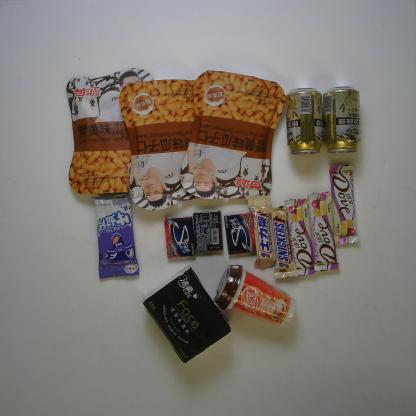Alcohol: (322, 86, 362, 154), (285, 88, 325, 154)
Candy: (91, 192, 140, 280)
Chocolate: (328, 162, 360, 244), (307, 190, 339, 272), (283, 198, 316, 276), (247, 195, 277, 270), (268, 206, 298, 279)
Dried Fruit: (179, 70, 287, 200), (118, 78, 215, 211), (66, 67, 156, 196)
Gum: (223, 211, 256, 256), (164, 216, 196, 260), (192, 210, 224, 252)
Instant Drink: (212, 263, 297, 328)
Tissue: (141, 264, 233, 364)
